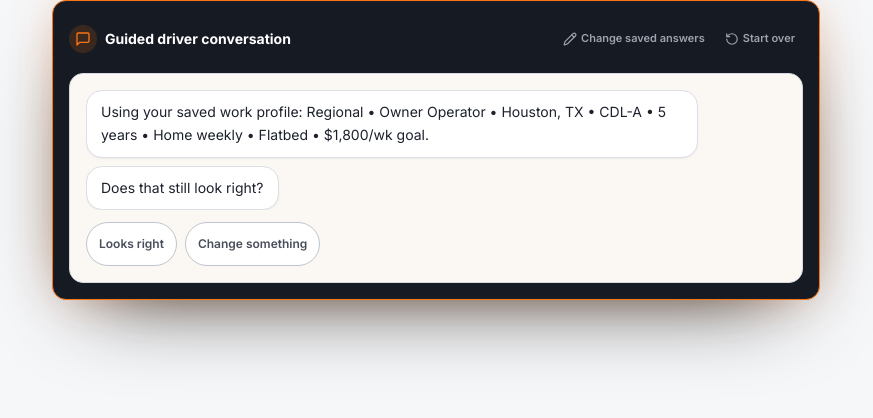
Test case: HP-4B profile-aware conversation › Start over drops the seed for this session only and restarts the normal script
Click the button with test id "home-conversation-restart" at x=760, y=39, box [717,17,803,61]
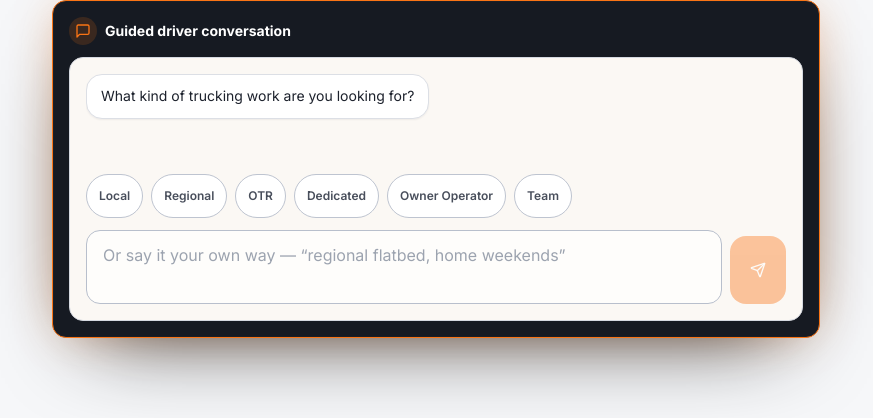
Expected: the text "What kind of trucking work are you looking for?" is shown, [86,74,429,119]
Expected: the text "Using your saved work profile:" is gone
Expected: the button with test id "home-conversation-change-saved" is gone
